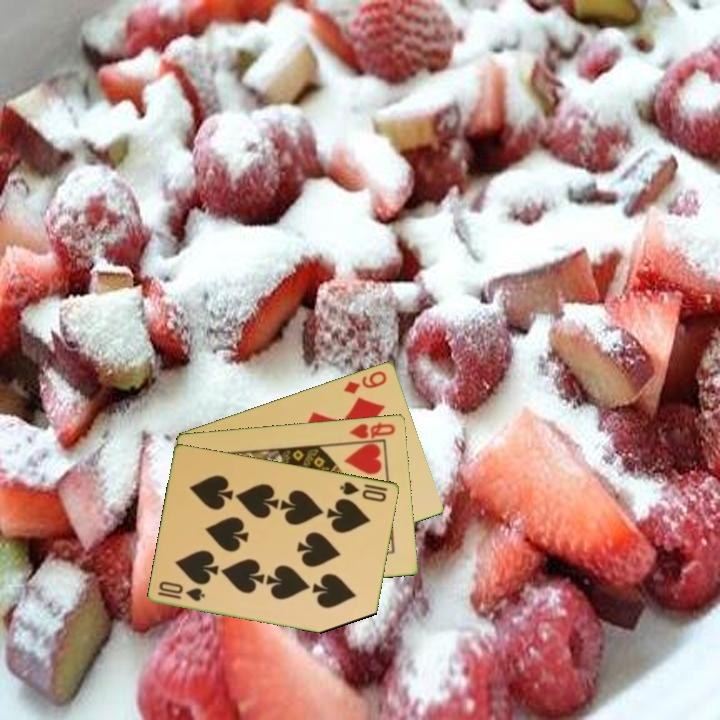10s: (154, 577, 208, 604), (337, 478, 389, 505)
9d: (340, 367, 390, 396)
Qh: (346, 418, 399, 441)
